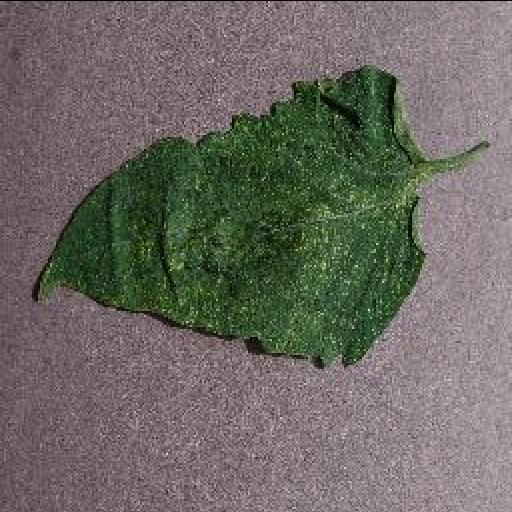disease_tomato: (33, 62, 429, 370)
